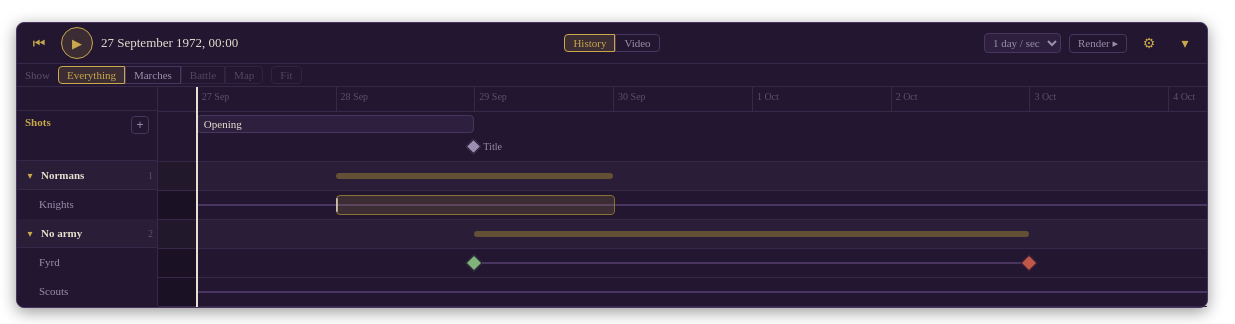
Test: History mode › Marches lists only the units that march; Battle and Map wait for later weeks
Click the button "Marches" at point(153, 75), box 125,66 -> 181,84
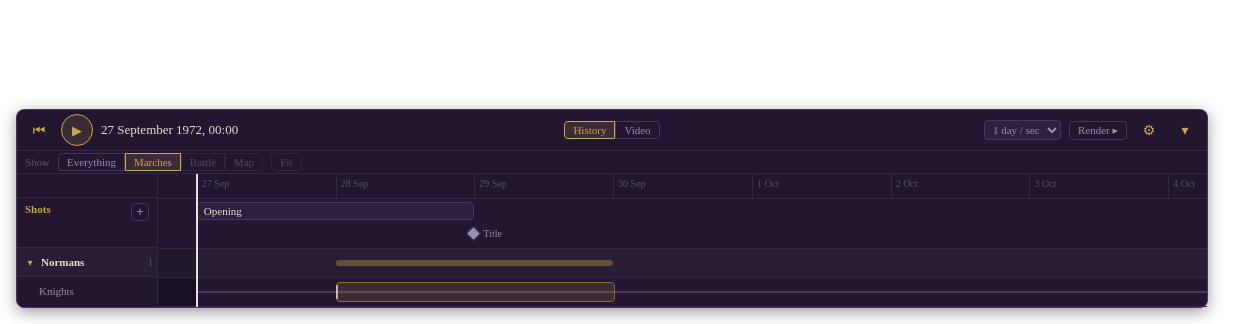
Expected: the text "Knights" is shown, 39,285 -> 74,297
Expected: the text "Scouts" is gone
